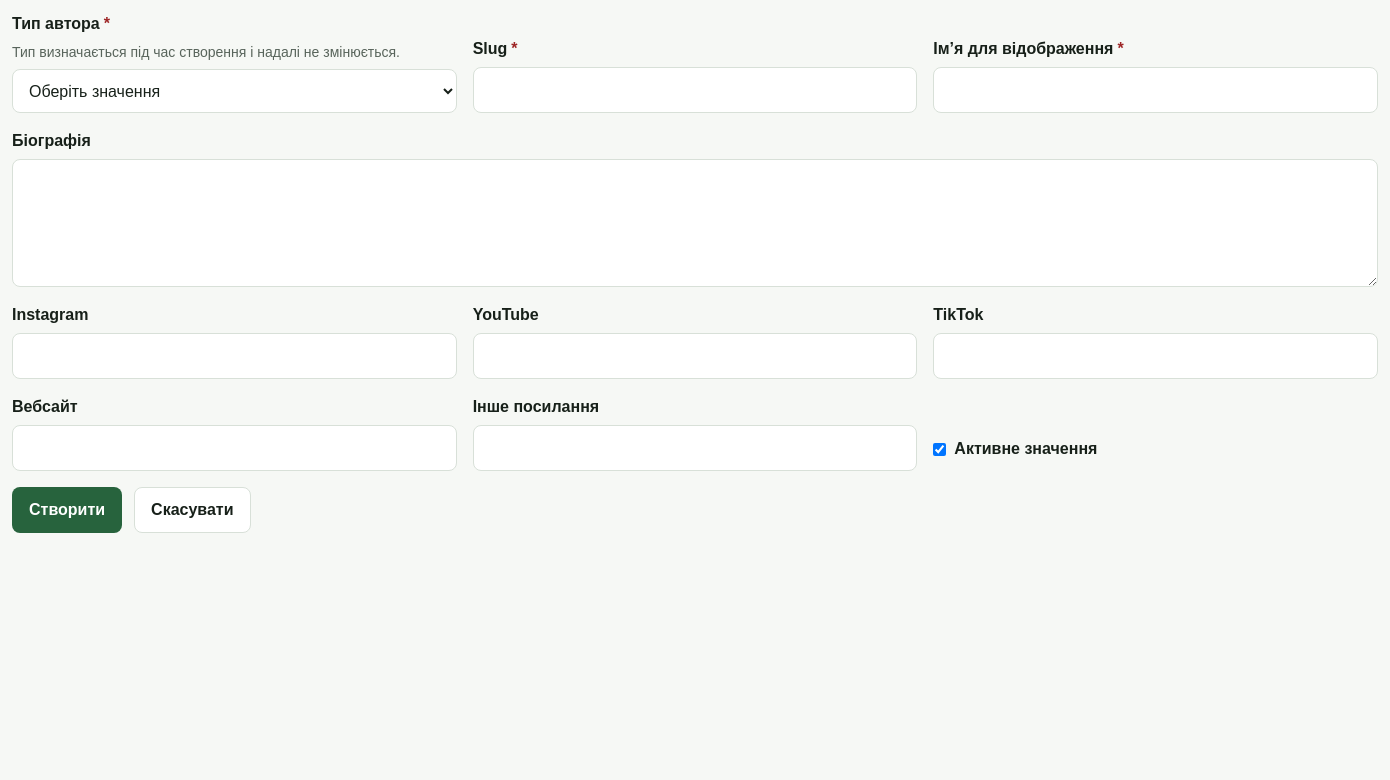
Test: reference form › shows expertise only when an expert author is selected
Expected: the field labelled "Сфера експертизи" is not shown
Step 1. Select "Експерт" in the dropdown labelled "Тип автора*" → (234, 91), box x1=12 y1=69 x2=457 y2=113
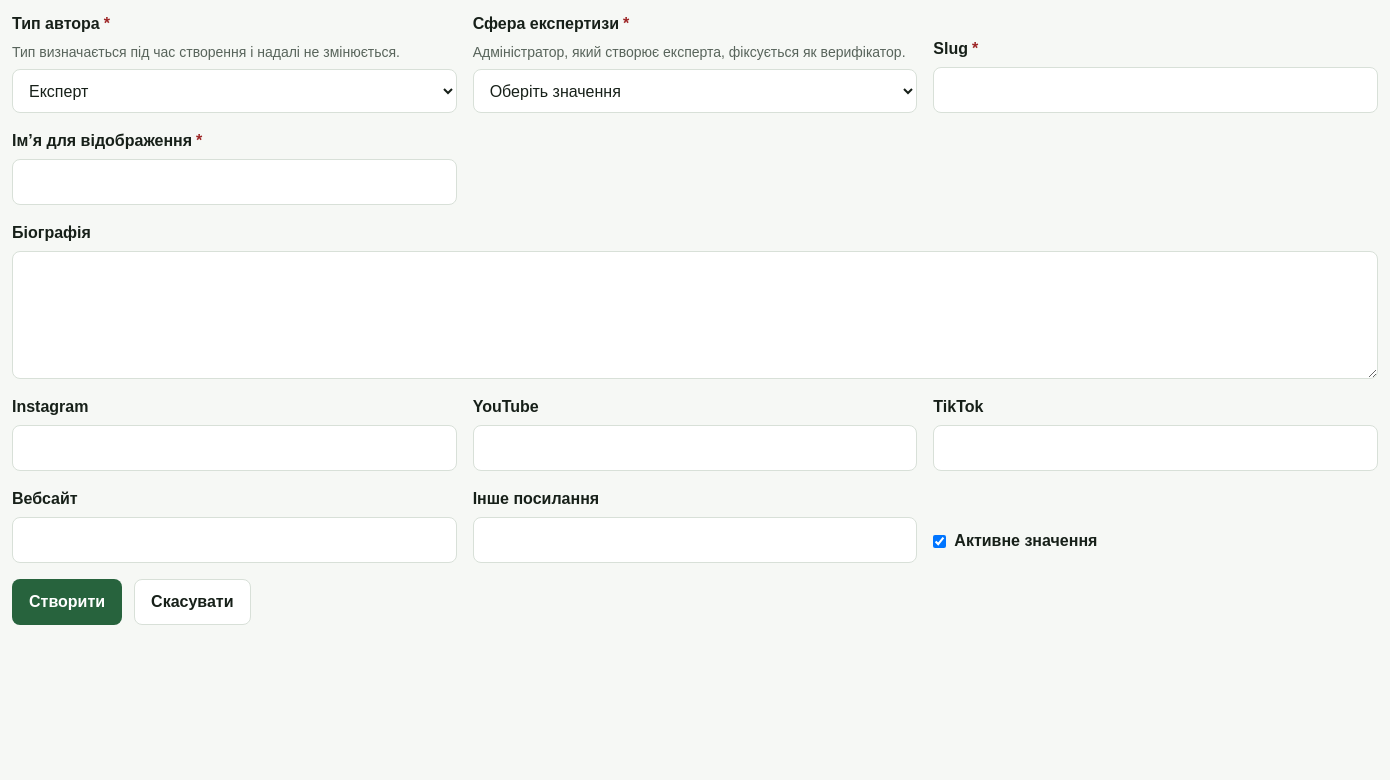
Expected: the dropdown labelled "Сфера експертизи*" is shown, x1=473 y1=69 x2=917 y2=113
